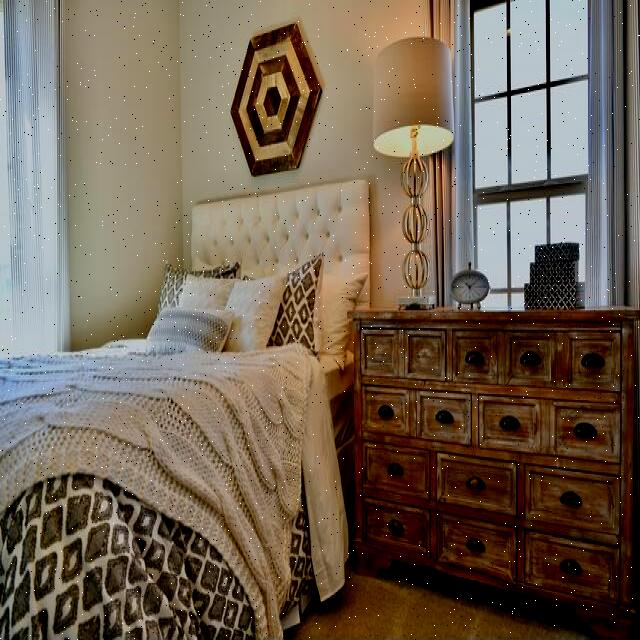bed: (0, 243, 377, 640)
